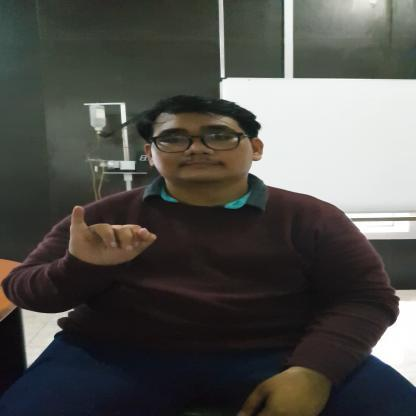I: (63, 201, 161, 265)
